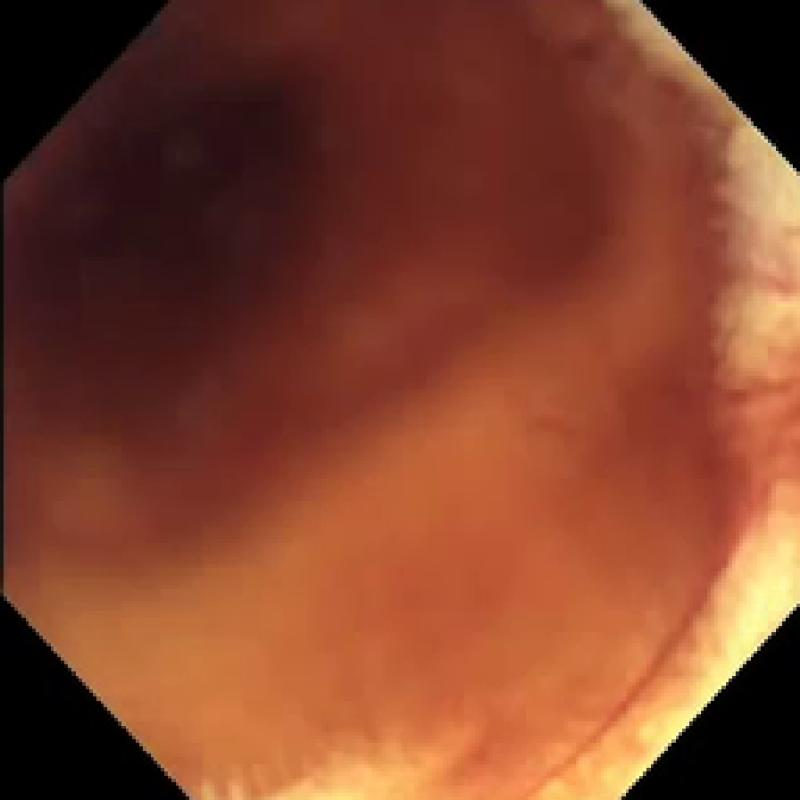bleeding: (0, 39, 600, 513), (535, 520, 737, 800), (667, 189, 740, 467)
